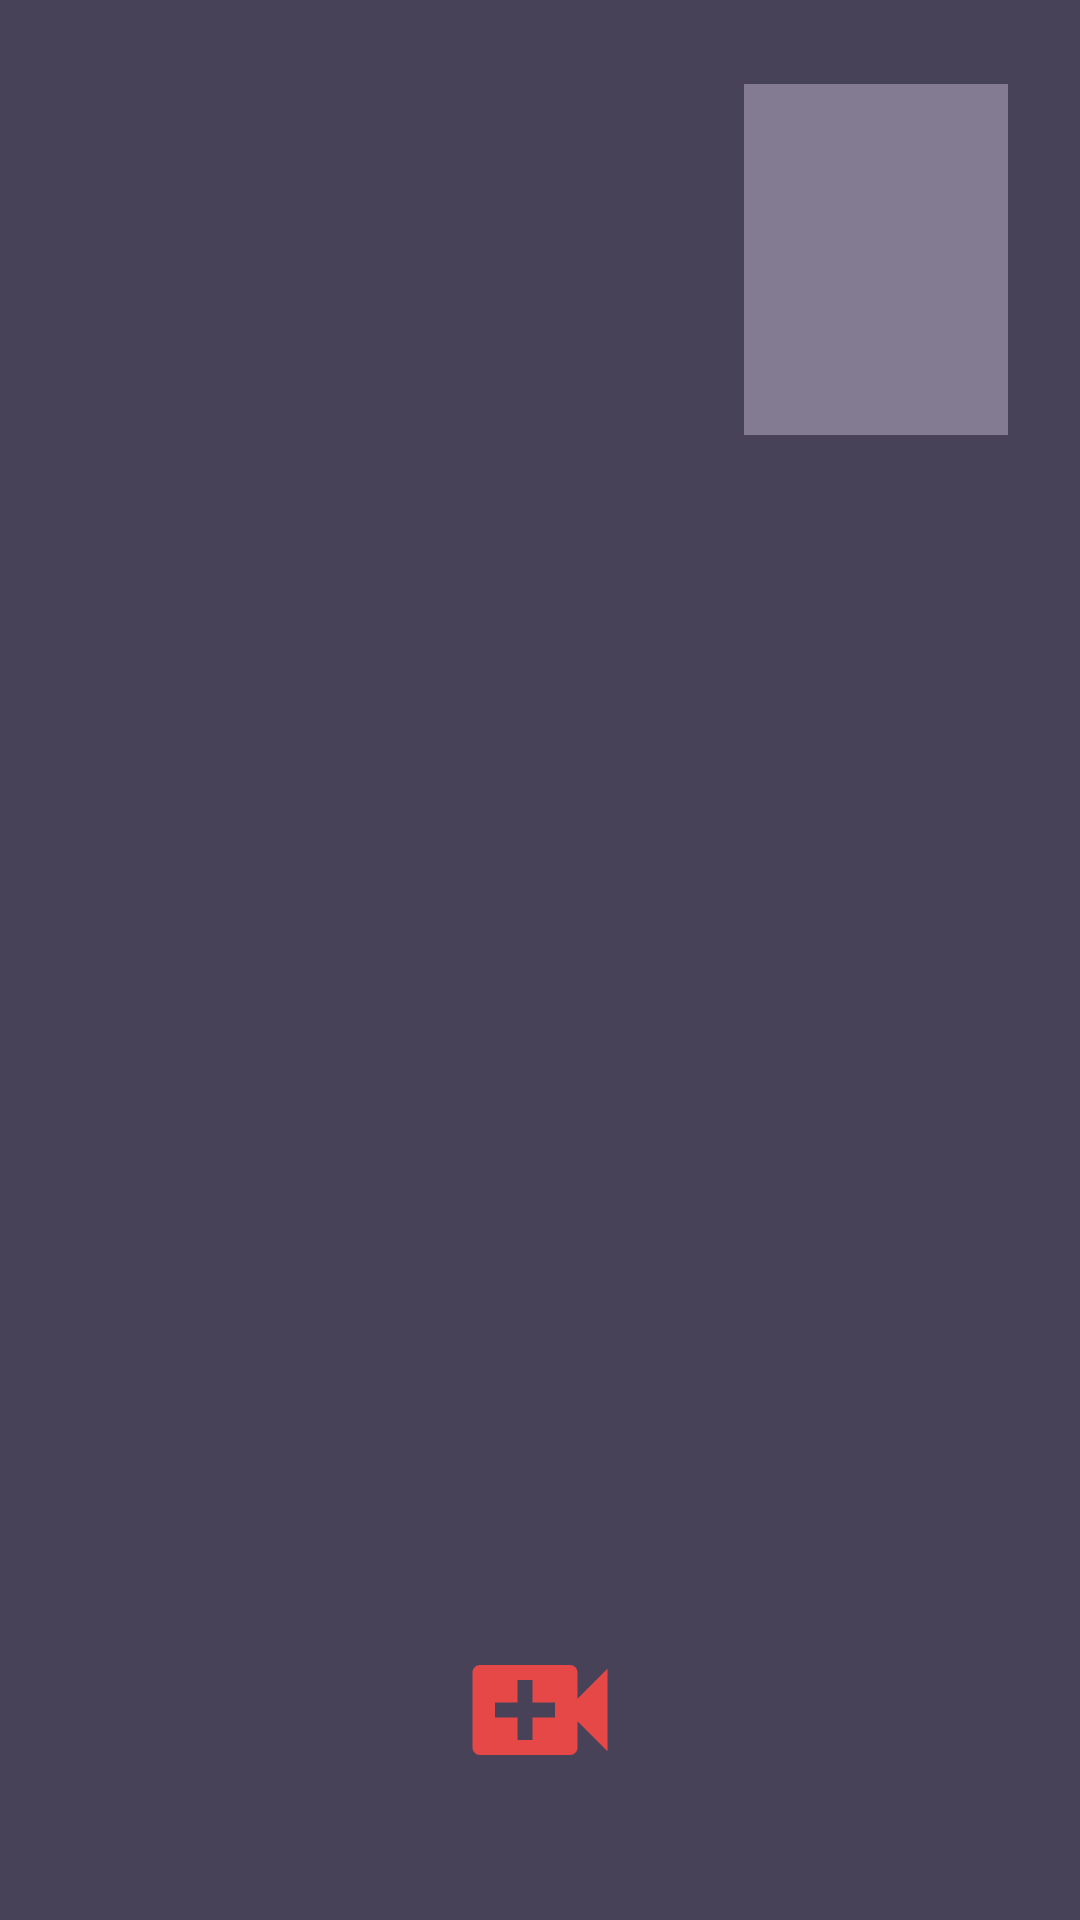

Icons on this 1080x1920 Android screen, each with its box as (x1, y1, x2, y2):
video call: (472, 1665, 608, 1755)
